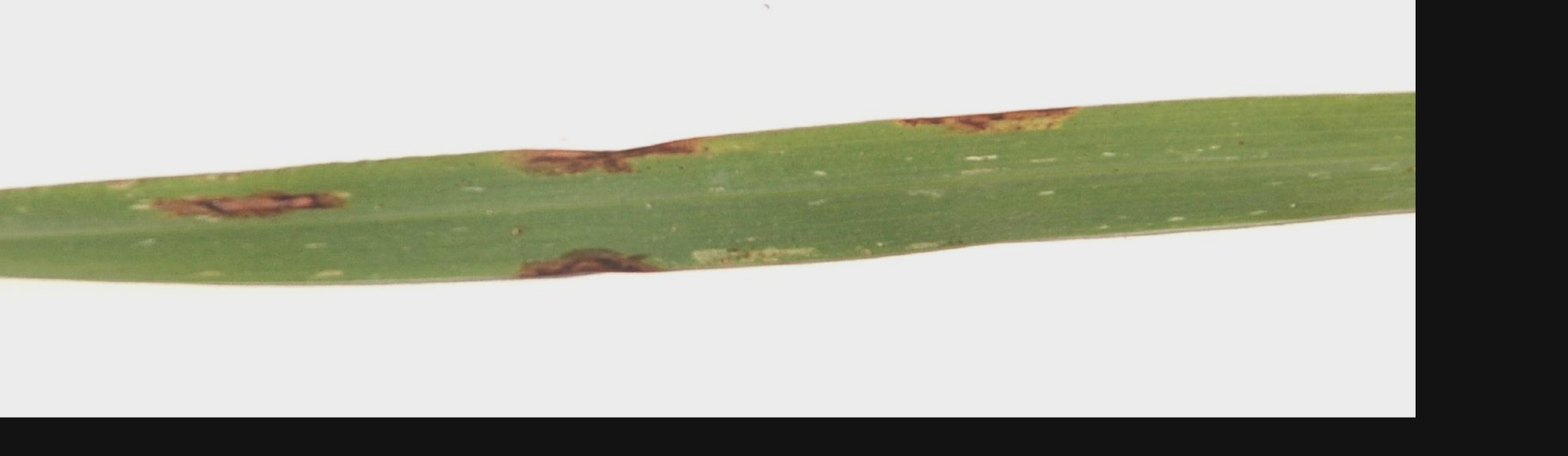Bacterial_Leaf_Blight: (484, 113, 743, 175), (883, 83, 1120, 144), (145, 169, 380, 227), (525, 231, 674, 291)
